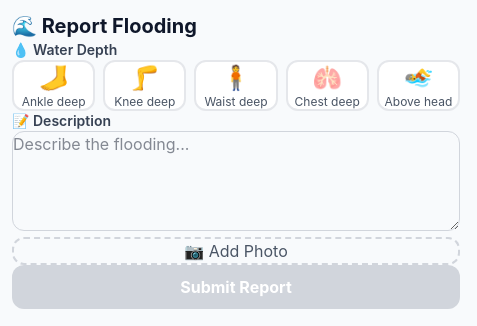
Test: ReportForm › submit button becomes enabled after selecting a depth
The image size is (477, 326).
Click the button "🦵 Knee deep" at (145, 86), box [103,60,186,111]
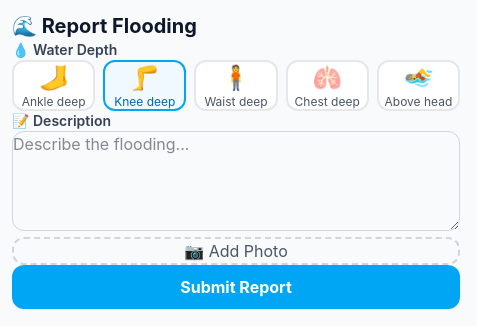
Expected: the button "Submit Report" is enabled, [12,265,460,309]
